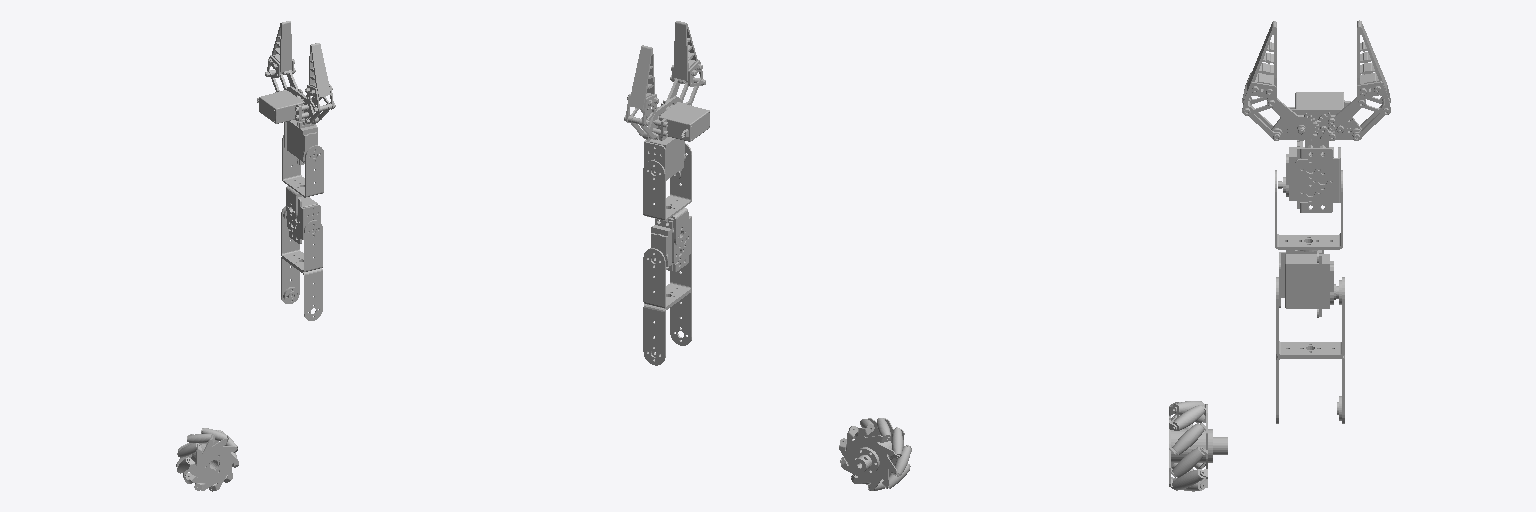
The robot description file, URDF, robot "mini_mec_moveit":
<?xml version="1.0" encoding="utf-8"?>
<!-- This URDF was automatically created by SolidWorks to URDF Exporter! Originally created by [author] ([email redacted]) 
     Commit Version: 1.6.0-1-g15f4949  Build Version: 1.6.7594.29634
     For more information, please see http://wiki.ros.org/sw_urdf_exporter -->
<robot  name="mini_mec_moveit">
  <link  name="base_link">
    <inertial>
      <origin  xyz="-0.0242608603884175 0.000941782403866838 0.161277046716716"  rpy="0 0 0" />
      <mass  value="0.964324036915094" />
      <inertia
        ixx="0.00138184345008643"
        ixy="2.24386688768857E-06"
        ixz="-4.9156239453518E-06"
        iyy="0.00132339360576493"
        iyz="-2.22771738954188E-07"
        izz="0.00180451595701426" />
    </inertial>
    <visual>
      <origin  xyz="0 0 0"  rpy="0 0 0" />
      <geometry>
        <mesh  filename="package://wheeltec_robot_urdf/meshes/mini_mec_moveit/base_link.STL" />
      </geometry>
      <material  name="">
        <color  rgba="0.752941176470588 0.752941176470588 0.752941176470588 1" />
      </material>
    </visual>
    <collision>
      <origin  xyz="0 0 0"  rpy="0 0 0" />
      <geometry>
        <mesh  filename="package://wheeltec_robot_urdf/meshes/mini_mec_moveit/base_link.STL" />
      </geometry>
    </collision>
  </link>

  <link  name="right_front_link">
    <inertial>
      <origin  xyz="4.89650032380745E-06 2.85003743513701E-06 0.0233864908345848"  rpy="0 0 0" />
      <mass  value="0.0528664319862723" />
      <inertia  ixx="6.04432505174197E-06" ixy="6.42470647469883E-10"  ixz="1.13403723159527E-09"   iyy="6.043453127262E-06"  iyz="6.47662758829591E-10"  izz="7.83046693677153E-06" />
    </inertial>
    <visual>
      <origin  xyz="0 0 0"  rpy="0 0 0" />
      <geometry>
        <mesh  filename="package://wheeltec_robot_urdf/meshes/mini_mec_moveit/Link1.STL" />
      </geometry>
      <material  name="">
        <color  rgba="1 1 1 1" />
      </material>
    </visual>
    <collision>
      <origin  xyz="0 0 0"  rpy="0 0 0" />
      <geometry>
        <mesh  filename="package://wheeltec_robot_urdf/meshes/mini_mec_moveit/Link1.STL" />
      </geometry>
    </collision>
  </link>
  <joint  name="right_front_joint"  type="continuous">
    <origin  xyz="0.0734779429714969 -0.0688295279026024 0.037"  rpy="1.5707963267953 1.5707963267949 0" />
    <parent  link="base_link" />
    <child  link="right_front_link" />
    <axis  xyz="0 0 -1" />
  </joint>

  <link  name="right_wheel_link">
    <inertial>
      <origin  xyz="-5.11580597498118E-06 3.01168768439969E-06 0.0232620873949244" rpy="0 0 0" />
      <mass  value="0.0505856351299081" />
      <inertia
        ixx="5.77351459295277E-06"
        ixy="-6.53871442489076E-10"
        ixz="-1.14535771257589E-09"
        iyy="5.77266607437441E-06"
        iyz="6.38528288142685E-10"
        izz="7.74203422438329E-06" />
    </inertial>
    <visual>
      <origin  xyz="0 0 0"  rpy="0 0 0" />
      <geometry>
        <mesh  filename="package://wheeltec_robot_urdf/meshes/mini_mec_moveit/Link2.STL" />
      </geometry>
      <material  name="">
        <color  rgba="0.752941176470588 0.752941176470588 0.752941176470588 1" />
      </material>
    </visual>
    <collision>
      <origin  xyz="0 0 0"  rpy="0 0 0" />
      <geometry>
        <mesh  filename="package://wheeltec_robot_urdf/meshes/mini_mec_moveit/Link2.STL" />
      </geometry>
    </collision>
  </link>
  <joint  name="right_wheel_joint"  type="continuous">
    <origin  xyz="-0.0995220570285331 -0.0688295279025332 0.037"  rpy="1.5707963267953 1.5707963267949 0" />
    <parent  link="base_link" />
    <child  link="right_wheel_link" />
    <axis  xyz="0 0 1" />
  </joint>

  <link  name="left_wheel_link">
    <inertial>
      <origin  xyz="5.1365808728665E-06 2.99084281103063E-06 0.0233318663561555"  rpy="0 0 0" />
      <mass  value="0.0503851668483252" />
      <inertia
        ixx="5.77286944663107E-06"
        ixy="6.4243955917302E-10"
        ixz="1.13420283864646E-09"
        iyy="5.77199742241181E-06"
        iyz="6.47666981201367E-10"
        izz="7.74124442960726E-06" />
    </inertial>
    <visual>
      <origin  xyz="0 0 0"  rpy="0 0 0" />
      <geometry>
        <mesh  filename="package://wheeltec_robot_urdf/meshes/mini_mec_moveit/Link3.STL" />
      </geometry>
      <material  name="">
        <color   rgba="0.752941176470588 0.752941176470588 0.752941176470588 1" />
      </material>
    </visual>
    <collision>
      <origin  xyz="0 0 0" rpy="0 0 0" />
      <geometry>
        <mesh   filename="package://wheeltec_robot_urdf/meshes/mini_mec_moveit/Link3.STL" />
      </geometry>
    </collision>
  </link>
  <joint  name="left_wheel_joint" type="continuous">
    <origin  xyz="-0.0995220570284772 0.0711704720974968 0.037"  rpy="-1.5707963267945 1.5707963267949 0" />
    <parent  link="base_link" />
    <child  link="left_wheel_link" />
    <axis  xyz="0 0 -1" />
  </joint>

  <link  name="left_front_link">
    <inertial>
      <origin  xyz="-4.96038281075362E-06 2.92016479913615E-06 0.0233166404325246"   rpy="0 0 0" />
      <mass  value="0.0521703112796275" />
      <inertia
        ixx="5.90485876571993E-06"
        ixy="-6.53908899809813E-10"
        ixz="-1.14534317369952E-09"
        iyy="5.90401027745708E-06"
        iyz="6.38501492001224E-10"
        izz="7.83002141734932E-06" />
    </inertial>
    <visual>
      <origin  xyz="0 0 0"  rpy="0 0 0" />
      <geometry>
        <mesh  filename="package://wheeltec_robot_urdf/meshes/mini_mec_moveit/Link4.STL" />
      </geometry>
      <material name="">
        <color  rgba="0.752941176470588 0.752941176470588 0.752941176470588 1" />
      </material>
    </visual>
    <collision>
      <origin  xyz="0 0 0"  rpy="0 0 0" />
      <geometry>
        <mesh  filename="package://wheeltec_robot_urdf/meshes/mini_mec_moveit/Link4.STL" />
      </geometry>
    </collision>
  </link>
  <joint  name="left_front_joint"  type="continuous">
    <origin  xyz="0.0734779429715529 0.0711704720974276 0.037"  rpy="-1.5707963267945 1.5707963267949 0" />
    <parent  link="base_link" />
    <child  link="left_front_link" />
    <axis  xyz="0 0 -1" />
  </joint>

  <link  name="Link1">
    <inertial>
      <origin  xyz="0.0525 -3.60822483003176E-16 -0.00717232457543077"  rpy="0 0 0" />
      <mass  value="0.0182961255655802" />
      <inertia
        ixx="1.0513268753275E-05"
        ixy="3.3334660312705E-20"
        ixz="5.62010993018432E-21"
        iyy="1.62397575138127E-05"
        iyz="-1.10281950372364E-20"
        izz="7.56857037469913E-06" />
    </inertial>
    <visual>
      <origin  xyz="0 0 0"  rpy="0 0 0" />
      <geometry>
        <mesh  filename="package://wheeltec_robot_urdf/meshes/mini_mec_moveit/Link5.STL" />
      </geometry>
      <material  name="">
        <color   rgba="0.752941176470588 0.752941176470588 0.752941176470588 1" />
      </material>
    </visual>
    <collision>
      <origin  xyz="0 0 0"  rpy="0 0 0" />
      <geometry>
        <mesh  filename="package://wheeltec_robot_urdf/meshes/mini_mec_moveit/Link5.STL" />
      </geometry>
    </collision>
  </link>
  <joint  name="joint1"  type="revolute">
    <origin  xyz="0.0859779429722549 0.00153207350830251 0.1575"  rpy="1.5707963267945 -1.5707963267949 0" />
    <parent  link="base_link" />
    <child  link="Link1" />
    <axis  xyz="0 0 -1" />
    <limit  lower="-1.57"  upper="1.57"  effort="0"  velocity="0" />
  </joint>
  <link  name="Link2">
    <inertial>
      <origin  xyz="-0.0206963570082246 0.00116506235636091 0.00281764144444208"  rpy="0 0 0" />
      <mass value="0.0488188930518477" />
      <inertia
        ixx="1.21270456083974E-05"
        ixy="-1.29374135397093E-07"
        ixz="-1.51620883401231E-07"
        iyy="1.97453837177464E-05"
        iyz="-1.4496687950046E-07"
        izz="1.15876519674205E-05" />
    </inertial>
    <visual>
      <origin  xyz="0 0 0"  rpy="0 0 0" />
      <geometry>
        <mesh  filename="package://wheeltec_robot_urdf/meshes/mini_mec_moveit/Link6.STL" />
      </geometry>
      <material  name="">
        <color   rgba="0.752941176470588 0.752941176470588 0.752941176470588 1" />
      </material>
    </visual>
    <collision>
      <origin  xyz="0 0 0"  rpy="0 0 0" />
      <geometry>
        <mesh  filename="package://wheeltec_robot_urdf/meshes/mini_mec_moveit/Link6.STL" />
      </geometry>
    </collision>
  </link>
  <joint  name="joint2"  type="revolute">
    <origin  xyz="0.105 0 0.000380439771702538"  rpy="-3.14159265358979 0 3.14159265358979" />
    <parent  link="Link1" />
    <child  link="Link2" />
    <axis  xyz="0 0 -1" />
    <limit  lower="-1.57"  upper="1.57"  effort="0"  velocity="0" />
  </joint>
  <link  name="Link3">
    <inertial>
      <origin  xyz="0.0320491503624209 -0.00940216069084657 0.00617914751476116" rpy="0 0 0" />
      <mass  value="0.0777888360737409" />
      <inertia
        ixx="1.69080832215357E-05"
        ixy="7.14015112511598E-11"
        ixz="-1.4180338298345E-07"
        iyy="1.88070585676967E-05"
        iyz="1.43436258826756E-07"
        izz="1.29763203620163E-05" />
    </inertial>
    <visual>
      <origin  xyz="0 0 0"  rpy="0 0 0" />
      <geometry>
        <mesh  filename="package://wheeltec_robot_urdf/meshes/mini_mec_moveit/Link7.STL" />
      </geometry>
      <material  name="">
        <color  rgba="0.752941176470588 0.752941176470588 0.752941176470588 1" />
      </material>
    </visual>
    <collision>
      <origin  xyz="0 0 0"  rpy="0 0 0" />
      <geometry>
        <mesh  filename="package://wheeltec_robot_urdf/meshes/mini_mec_moveit/Link7.STL" />
      </geometry>
    </collision>
  </link>
  <joint  name="joint3"  type="revolute">
    <origin  xyz="-0.0974999999999999 -0.00100000000000075 0.00294298277127994"  rpy="0 0 -3.14159265358979" />
    <parent  link="Link2" />
    <child  link="Link3" />
    <axis xyz="0 0 1" />
    <limit  lower="-1.57"  upper="1.57"  effort="0"  velocity="0" />
  </joint>
  <link name="Link4">
    <inertial>
      <origin   xyz="-0.00369362330435777 0.00436132757395002 -0.00376492941233544"  rpy="0 0 0" />
      <mass  value="0.00297108566800576" />
      <inertia
        ixx="2.05767246894327E-07"
        ixy="1.40876829989062E-07"
        ixz="1.90823020774252E-21"
        iyy="2.13065038138543E-07"
        iyz="-2.62514833343569E-22"
        izz="4.07485385419221E-07" />
    </inertial>
    <visual> 
      <origin   xyz="0 0 0"  rpy="0 0 0" />
      <geometry>
        <mesh  filename="package://wheeltec_robot_urdf/meshes/mini_mec_moveit/Link8.STL" />
      </geometry>
      <material  name="">
        <color  rgba="0.752941176470588 0.752941176470588 0.752941176470588 1" />
      </material>
    </visual>
    <collision>
      <origin  xyz="0 0 0"  rpy="0 0 0" />
      <geometry>
        <mesh  filename="package://wheeltec_robot_urdf/meshes/mini_mec_moveit/Link8.STL" />
      </geometry>
    </collision>
  </link>
  <joint  name="joint4"  type="revolute">
    <origin  xyz="0.0540000000000393 0.000500000000001083 0.0196166694251245" rpy="1.5707963267949 1.5707963267949 0" />
    <parent  link="Link3" />
    <child  link="Link4" />
    <axis  xyz="0 0 -1" />
    <limit  lower="-0.8"  upper="0.8"  effort="0"  velocity="0" />
  </joint>
  <link  name="Link5">
    <inertial>
      <origin  xyz="-0.00658804624479999 0.0193552201368047 0.00631635545310039"   rpy="0 0 0" />
      <mass  value="0.0110869938441036" />
      <inertia
        ixx="2.26638567960554E-06"
        ixy="-3.12207718593047E-07"
        ixz="-3.99343074508915E-14"
        iyy="7.09396223567129E-07"
        iyz="-3.44198262464447E-13"
        izz="2.52356347882981E-06" />
    </inertial>
    <visual>
      <origin  xyz="0 0 0"  rpy="0 0 0" />
      <geometry>
        <mesh  filename="package://wheeltec_robot_urdf/meshes/mini_mec_moveit/Link9.STL" />
      </geometry>
      <material  name="">
        <color  rgba="0.752941176470588 0.752941176470588 0.752941176470588 1" />
      </material>
    </visual>
    <collision>
      <origin  xyz="0 0 0"  rpy="0 0 0" />
      <geometry>
        <mesh  filename="package://wheeltec_robot_urdf/meshes/mini_mec_moveit/Link9.STL" />
      </geometry>
    </collision>
  </link>
  <joint  name="joint5"  type="revolute">
    <origin  xyz="-0.0240989659741024 0.0253818801308945 -0.00599999999999951"  rpy="0 0 0" />
    <parent  link="Link4" />
    <child link="Link5" />
    <axis  xyz="0 0 -1" />
    <limit  lower="-0.8"  upper="0.8"  effort="0"  velocity="0" />
  </joint>
  <link   name="Link6">
    <inertial>
      <origin  xyz="0.00564731558518915 0.006408011857017 -0.00450000000000009"  rpy="0 0 0" />
      <mass  value="0.00197604548440527" />
      <inertia
        ixx="1.95368168459781E-07"
        ixy="-1.51745831304806E-07"
        ixz="3.40562938600363E-21"
        iyy="2.07440923057146E-07"
        iyz="-3.44695543145825E-21"
        izz="3.99845023290318E-07" />
    </inertial>
    <visual>
      <origin  xyz="0 0 0"  rpy="0 0 0" />
      <geometry>
        <mesh  filename="package://wheeltec_robot_urdf/meshes/mini_mec_moveit/Link10.STL" />
      </geometry>
      <material  name="">
        <color rgba="0.752941176470588 0.752941176470588 0.752941176470588 1" />
      </material>
    </visual>
    <collision>
      <origin  xyz="0 0 0"  rpy="0 0 0" />
      <geometry>
        <mesh  filename="package://wheeltec_robot_urdf/meshes/mini_mec_moveit/Link10.STL" />
      </geometry>
    </collision>
  </link>
  <joint name="joint6" type="revolute">
    <origin  xyz="0.0540000000000195 0.000500000000001111 -0.00538333057488446" rpy="1.57079632679488 1.5707963267949 0" />
    <parent  link="Link3" />
    <child  link="Link6" />
    <axis  xyz="0 0 -1" />
    <limit  lower="-0.8"  upper="0.8"  effort="0"  velocity="0" />
  </joint>
  <link  name="Link7">
    <inertial>
      <origin  xyz="0.00618966269546512 0.0192027058273124 0.00133947934206335"  rpy="0 0 0" />
      <mass value="0.0111184078826835" />
      <inertia
        ixx="2.26651224287934E-06"
        ixy="3.12169913809685E-07"
        ixz="6.32729770552465E-14"
        iyy="7.09499232618779E-07"
        iyz="-4.47080022328076E-13"
        izz="2.52378788484384E-06" />
    </inertial>
    <visual>
      <origin  xyz="0 0 0" rpy="0 0 0" />
      <geometry>
        <mesh  filename="package://wheeltec_robot_urdf/meshes/mini_mec_moveit/Link11.STL" />
      </geometry>
      <material  name="">
        <color  rgba="0.752941176470588 0.752941176470588 0.752941176470588 1" />
      </material>
    </visual>
    <collision>
      <origin  xyz="0 0 0"  rpy="0 0 0" />
      <geometry>
        <mesh  filename="package://wheeltec_robot_urdf/meshes/mini_mec_moveit/Link11.STL" />
      </geometry>
    </collision>
  </link>
  <joint  name="joint7" type="revolute">
    <origin  xyz="0.0244712312864288 0.0250231660532005 -0.000999999999999918"  rpy="0 0 0" />
    <parent  link="Link6" />
    <child  link="Link7" />
    <axis  xyz="0 0 -1" />
    <limit  lower="-0.8"  upper="0.8" effort="0"  velocity="0" />
  </joint>
  <link  name="Link8">
    <inertial>
      <origin   xyz="-0.0127747670306946 0.0120023151330471 0.00400000000000025"  rpy="0 0 0" />
      <mass  value="0.00108778506953504" />
      <inertia
        ixx="9.10794072428576E-08"
        ixy="8.29113514522161E-08"
        ixz="8.42849347986081E-22"
        iyy="8.24748899495042E-08"
        iyz="-9.42243497207554E-22"
        izz="1.71922619588059E-07" />
    </inertial>
    <visual>
      <origin  xyz="0 0 0"   rpy="0 0 0" />
      <geometry>
        <mesh   filename="package://wheeltec_robot_urdf/meshes/mini_mec_moveit/Link12.STL" />
      </geometry>
      <material  name="">
        <color  rgba="0.752941176470588 0.752941176470588 0.752941176470588 1" />
      </material>
    </visual>
    <collision>
      <origin  xyz="0 0 0"  rpy="0 0 0" />
      <geometry>
        <mesh
          filename="package://wheeltec_robot_urdf/meshes/mini_mec_moveit/Link12.STL" />
      </geometry>
    </collision>
  </link>
  <joint  name="joint8"  type="revolute">
    <origin  xyz="0.0466465669185682 0.00350000000000097 0.0398200607720236"  rpy="1.57079632679488 1.5707963267949 0" />
    <parent  link="Link3" />
    <child link="Link8" />
    <axis  xyz="0 0 -1" />
    <limit lower="-0.8" upper="0.8"  effort="0"  velocity="0" />
  </joint>
  <link  name="Link9">
    <inertial>
      <origin  xyz="0.0129506495019559 0.0118123207260394 0.00400000000000211"  rpy="0 0 0" />
      <mass  value="0.00108778506953504" />
      <inertia
        ixx="8.86285716063844E-08"
        ixy="-8.3002252149766E-08"
        ixz="6.65124677821206E-22"
        iyy="8.49257255859803E-08"
        iyz="7.31981351950927E-22"
        izz="1.71922619588062E-07" />
    </inertial>
    <visual>
      <origin  xyz="0 0 0"  rpy="0 0 0" />
      <geometry>
        <mesh   filename="package://wheeltec_robot_urdf/meshes/mini_mec_moveit/Link13.STL" />
      </geometry>
      <material  name="">
        <color  rgba="0.752941176470588 0.752941176470588 0.752941176470588 1" />
      </material>
    </visual>
    <collision>
      <origin  xyz="0 0 0"  rpy="0 0 0" />
      <geometry>
        <mesh filename="package://wheeltec_robot_urdf/meshes/mini_mec_moveit/Link13.STL" />
      </geometry>
    </collision>
  </link>
  <joint name="joint9" type="revolute">
    <origin  xyz="0.0466465669184963 0.00350000000000095 -0.0255867219217734"  rpy="1.57079632679488 1.5707963267949 0" />
    <parent  link="Link3" />
    <child  link="Link9" />
    <axis  xyz="0 0 -1" />
    <limit  lower="-0.8"  upper="0.8"  effort="0"  velocity="0" />
  </joint>w
</robot>

--- What the picture shows (computed from the rendered views, not written in the file) ---
3 views of the same robot in one strip: view 1: azimuth 30°, elevation 25°; view 2: azimuth 150°, elevation 25°; view 3: azimuth 270°, elevation 25° (orthographic).
Robot: mini_mec_moveit — 14 links, 13 joints (9 revolute, 4 continuous); root link base_link; default pose: all joints at 0.
Links seen in each view (by area): view 1: Link1, right_wheel_link, Link2, Link3, Link7, Link5; view 2: Link1, Link2, right_wheel_link, Link3, Link5, Link7; view 3: Link3, Link2, right_wheel_link, Link1, Link7, Link5, Link4, Link6.
Link boxes in pixels (x1,y1,x2,y2): Link1: (281, 206, 322, 320); right_wheel_link: (176, 428, 238, 491); Link2: (282, 135, 323, 243); Link3: (257, 86, 321, 164); Link7: (305, 43, 335, 112); Link5: (265, 21, 295, 77); Link1: (643, 248, 691, 365); Link2: (643, 143, 691, 271); right_wheel_link: (839, 418, 911, 490); Link3: (639, 96, 709, 180); Link5: (624, 45, 658, 126); Link7: (670, 21, 705, 86); Link3: (1271, 92, 1361, 212); Link2: (1275, 170, 1342, 317); right_wheel_link: (1169, 401, 1227, 491); Link1: (1276, 277, 1344, 423); Link7: (1242, 21, 1276, 115); Link5: (1357, 20, 1390, 114); Link4: (1315, 97, 1365, 140); Link6: (1267, 98, 1317, 140).
Size in the robot's own frame: 0.2372 by 0.1818 by 0.5065 metres.
10 mesh visuals loaded from 14 distinct referenced files (10 binary STL); not drawn: 4 (reference not matched to a file when rendering).
